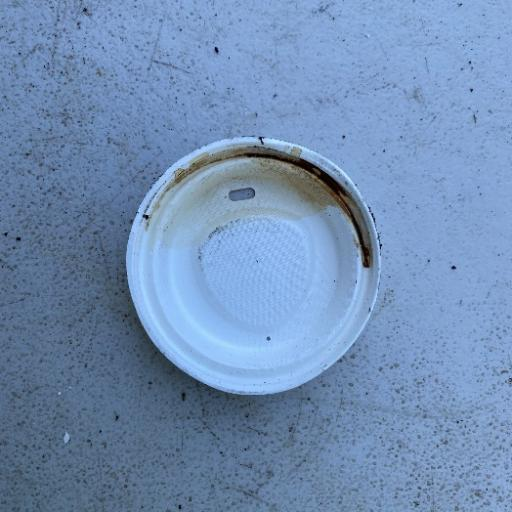Plastic: (123, 133, 384, 398)
